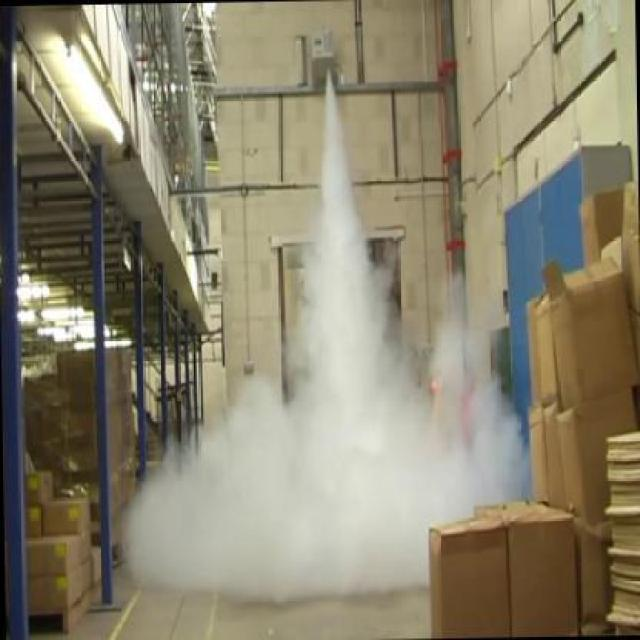fire: (118, 364, 534, 607), (286, 96, 408, 362)
